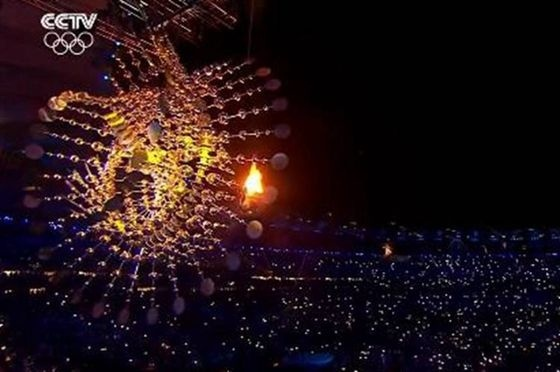fire: (241, 159, 265, 200)
